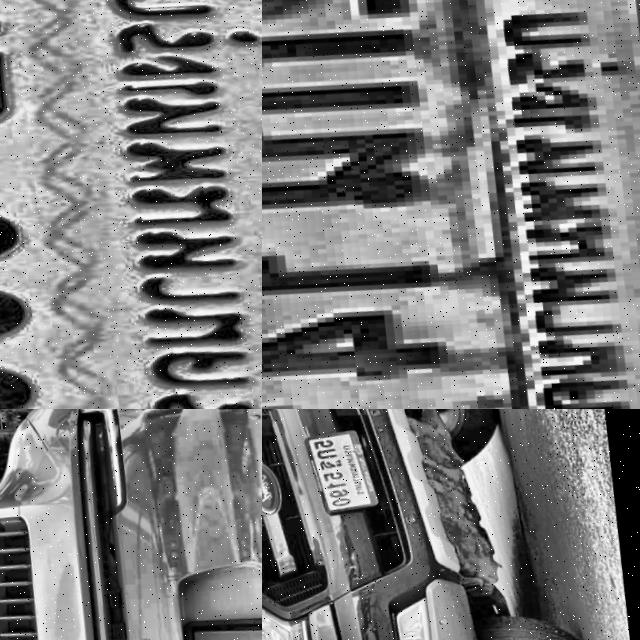license-plate: (262, 0, 640, 409), (0, 0, 262, 409), (297, 417, 382, 515)
